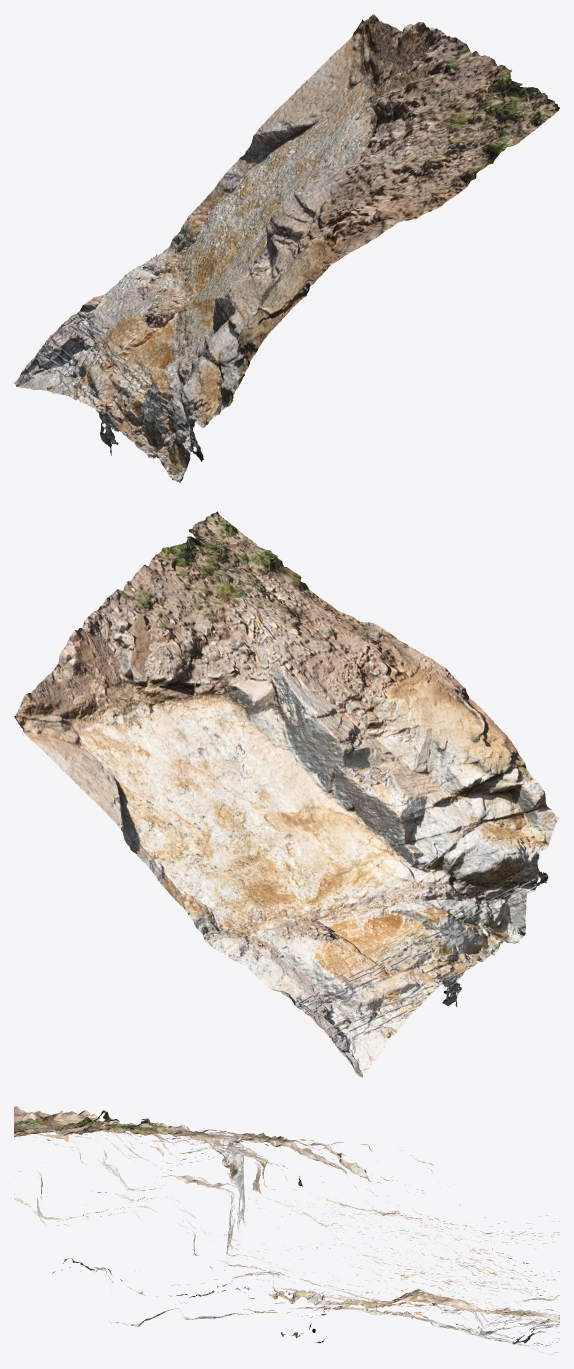
The picture shows the model from 3 angles, top to bottom: view 1: azimuth 30°, elevation 25°; view 2: azimuth 150°, elevation 25°; view 3: azimuth 270°, elevation 25°; orthographic projection. The views are drawn at different scales.
Bounding box in the file's own units: 7.63 × 7.12 × 7.63.
Materials: 3 (3 with a texture image).
